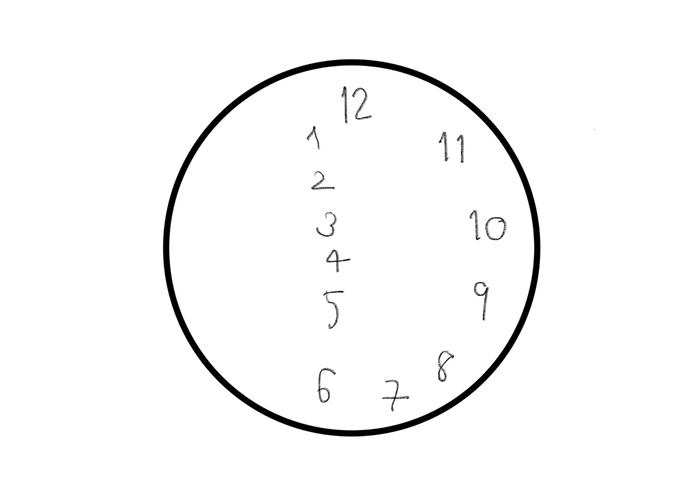eight: (432, 348, 457, 385)
eleven: (437, 132, 466, 165)
five: (321, 288, 344, 330)
four: (320, 248, 351, 274)
nine: (473, 277, 492, 320)
one: (304, 122, 326, 150)
seven: (378, 374, 410, 414)
six: (315, 364, 338, 404)
ten: (467, 206, 507, 242)
three: (314, 207, 340, 239)
twelve: (336, 81, 375, 124)
two: (305, 168, 335, 193)
